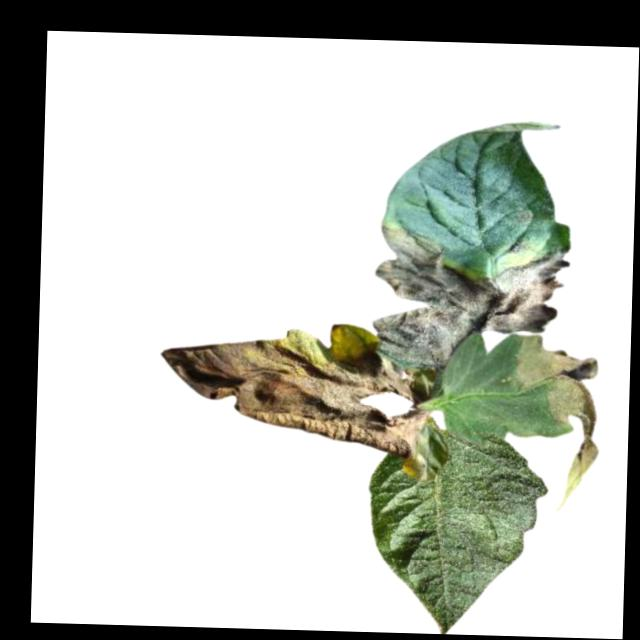Late_blight: (157, 317, 436, 478), (371, 222, 574, 374), (528, 333, 610, 514)
healthy: (365, 432, 548, 636)
